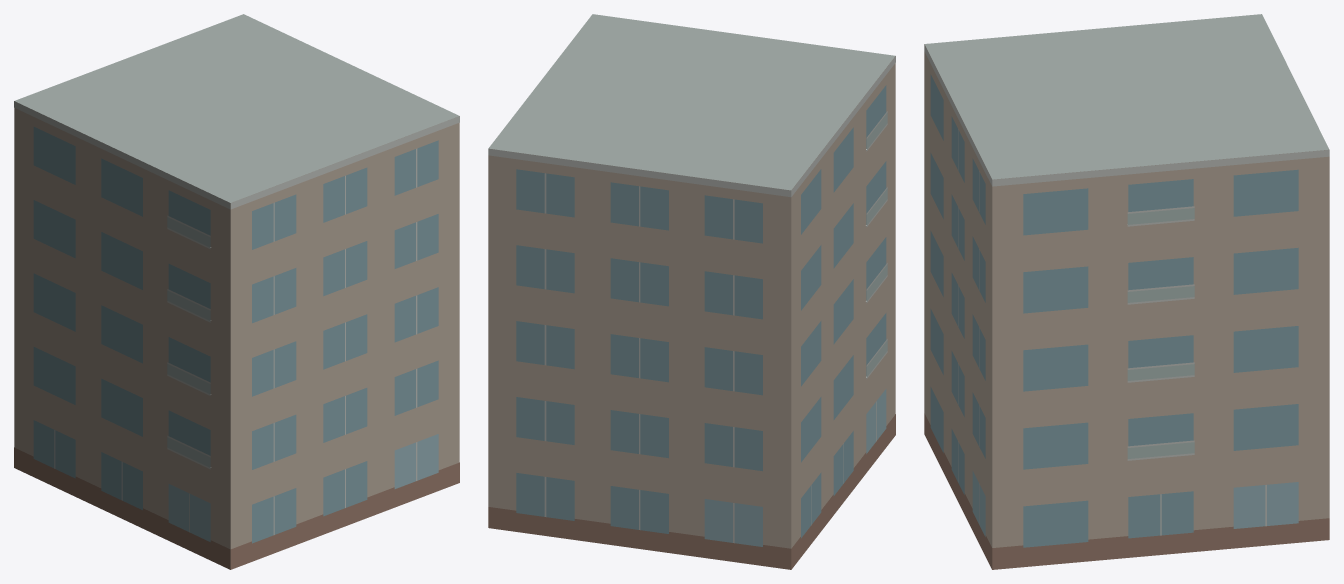
Rendered from survey-upis-32889129.glb.
3 views of the same model, side by side, from view 1: azimuth 30°, elevation 25°; view 2: azimuth 150°, elevation 25°; view 3: azimuth 270°, elevation 25° (orthographic). The views are drawn at different scales.
Parts seen in each view (by area): view 1: survey-upis-32889129.tmp; view 2: survey-upis-32889129.tmp; view 3: survey-upis-32889129.tmp.
Boxes of the visible parts, bbox=[...] form: survey-upis-32889129.tmp: bbox=[14, 14, 459, 569]; survey-upis-32889129.tmp: bbox=[488, 14, 895, 569]; survey-upis-32889129.tmp: bbox=[924, 14, 1329, 569].
Size of the model in its own units: 12.38 by 13.6 by 12.8.
